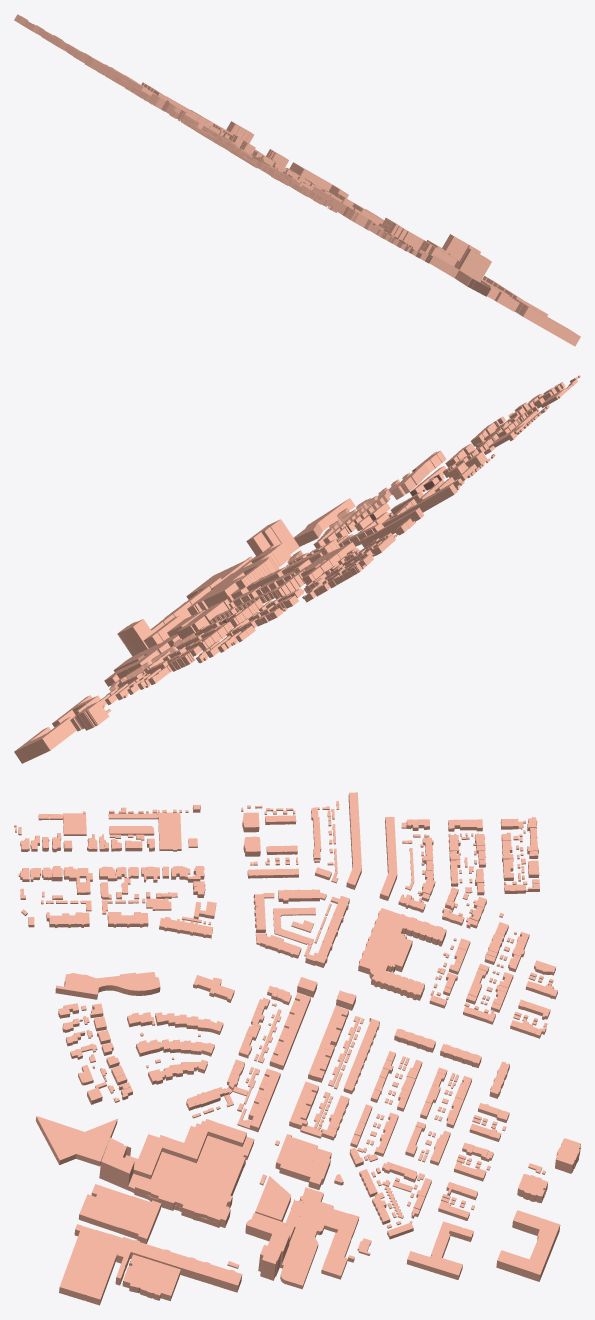
The picture shows the model from 3 angles, top to bottom: view 1: azimuth 30°, elevation 25°; view 2: azimuth 150°, elevation 25°; view 3: azimuth 270°, elevation 25°; orthographic projection. The views are drawn at different scales.
Size of the model in its own units: 539 by 398 by 643.
